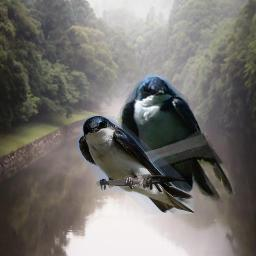Swallow: (117, 73, 238, 218), (78, 116, 194, 214)
